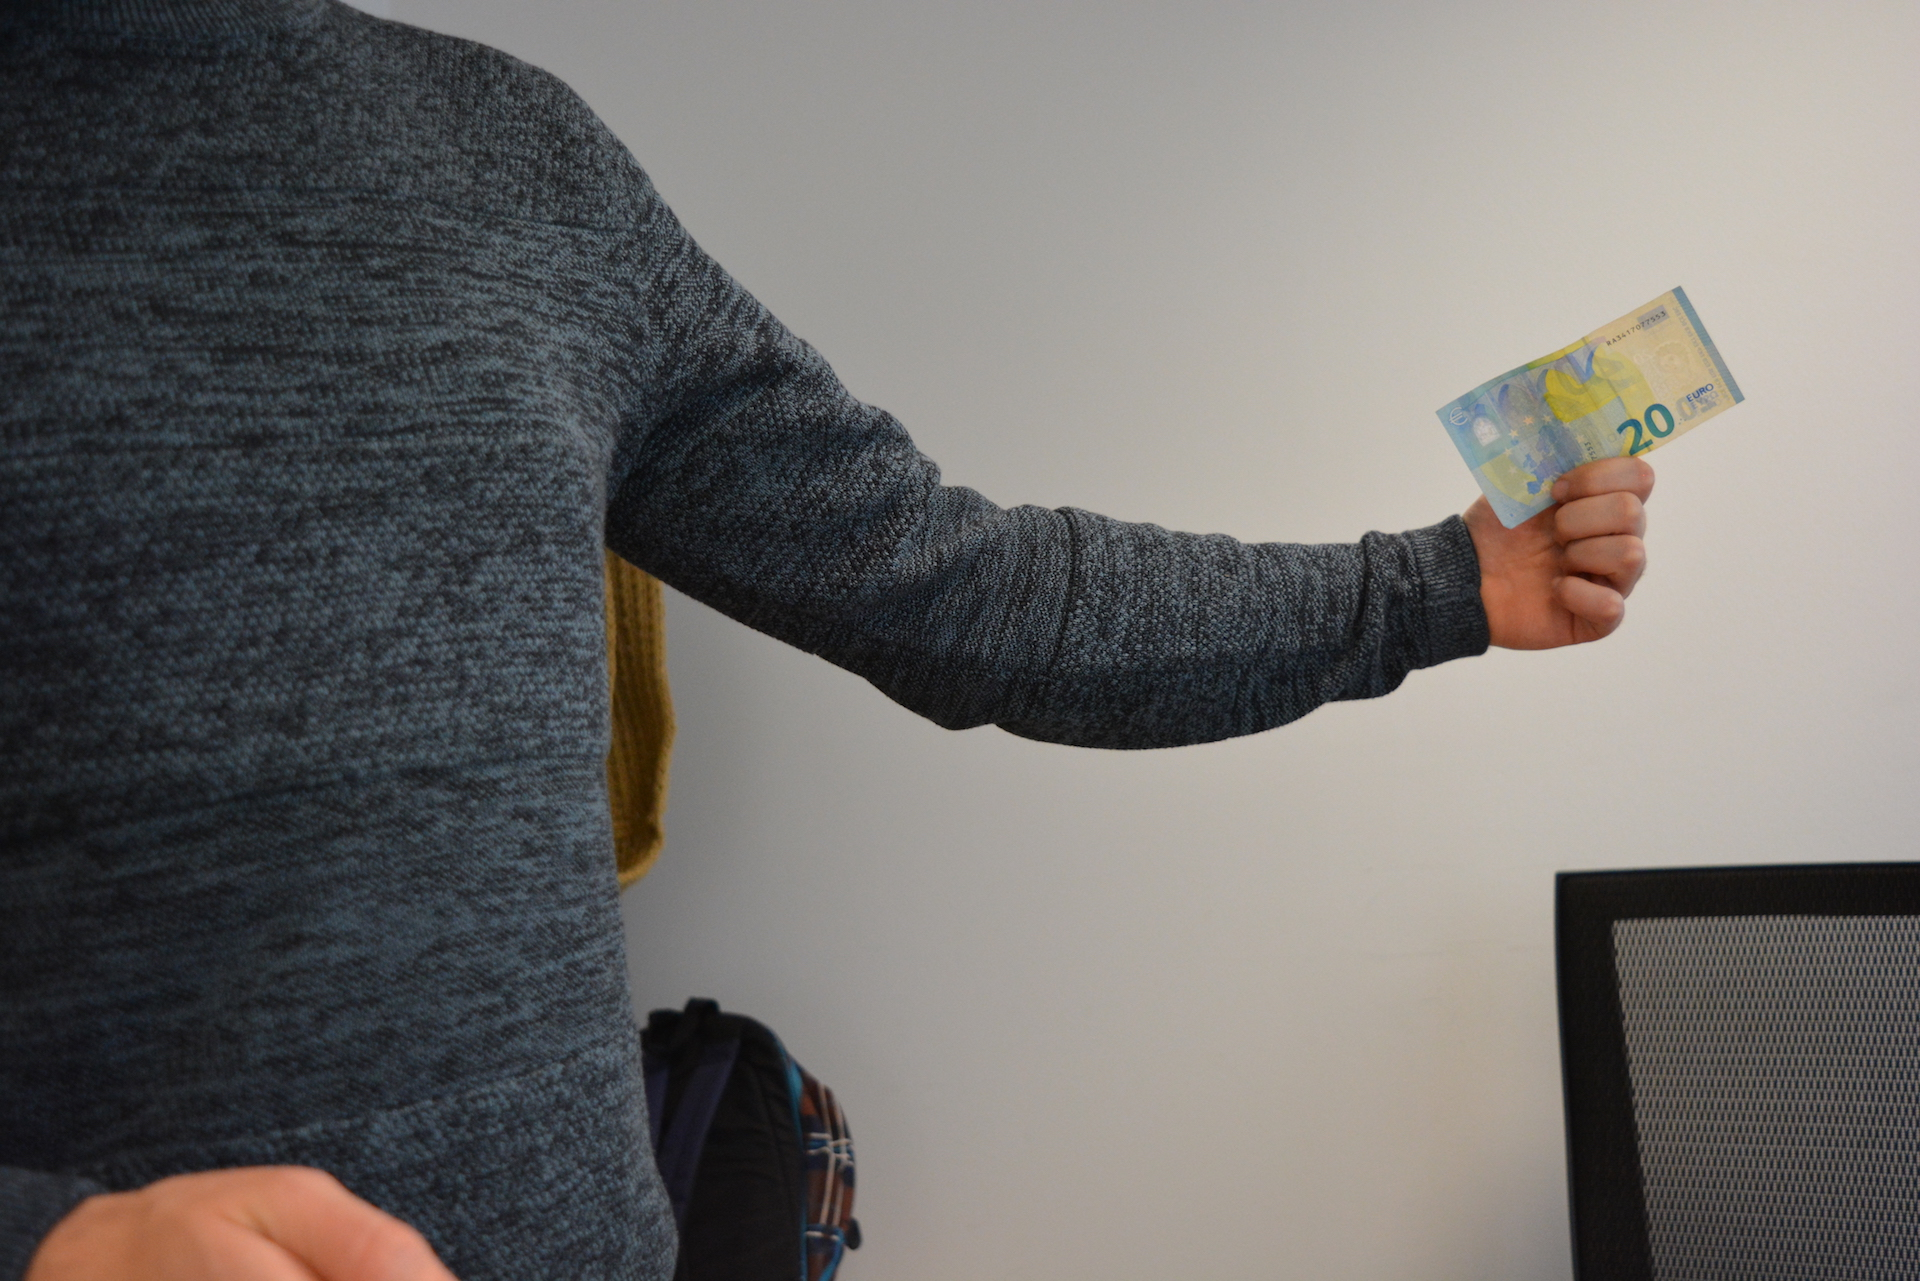billete: (1432, 283, 1748, 533)
